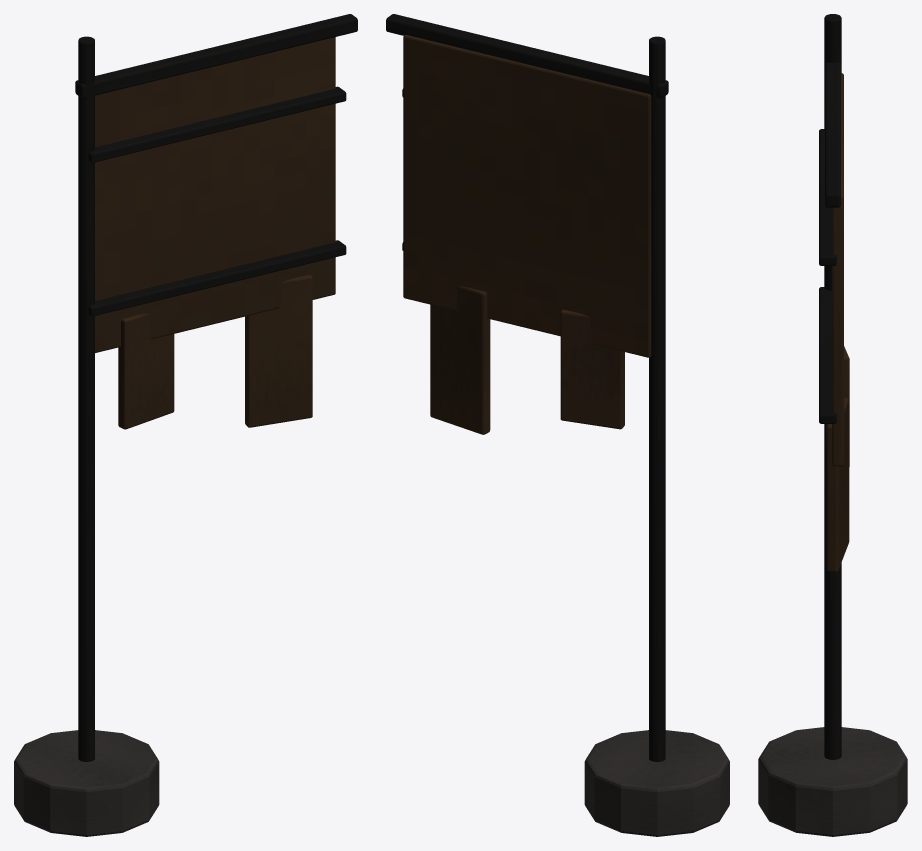
The model's file is prop_town_fortress_banner.glb.
The picture shows the model from 3 angles, left to right: view 1: azimuth 30°, elevation 25°; view 2: azimuth 150°, elevation 25°; view 3: azimuth 270°, elevation 25°; orthographic projection. The views are drawn at different scales.
Parts seen in each view (by area): view 1: aged_oak, iron, stone; view 2: aged_oak, iron, stone; view 3: stone, iron, aged_oak.
Boxes of the visible parts, <box> form: aged_oak: <box>95,37,335,429</box>; iron: <box>75,14,357,761</box>; stone: <box>14,730,159,836</box>; aged_oak: <box>403,34,651,434</box>; iron: <box>386,14,668,761</box>; stone: <box>584,730,729,836</box>; stone: <box>758,727,907,836</box>; iron: <box>819,14,841,759</box>; aged_oak: <box>826,73,849,572</box>.
Bounding box in the file's own units: 3.95 × 8.75 × 1.5.
3 materials, 3 textured.
